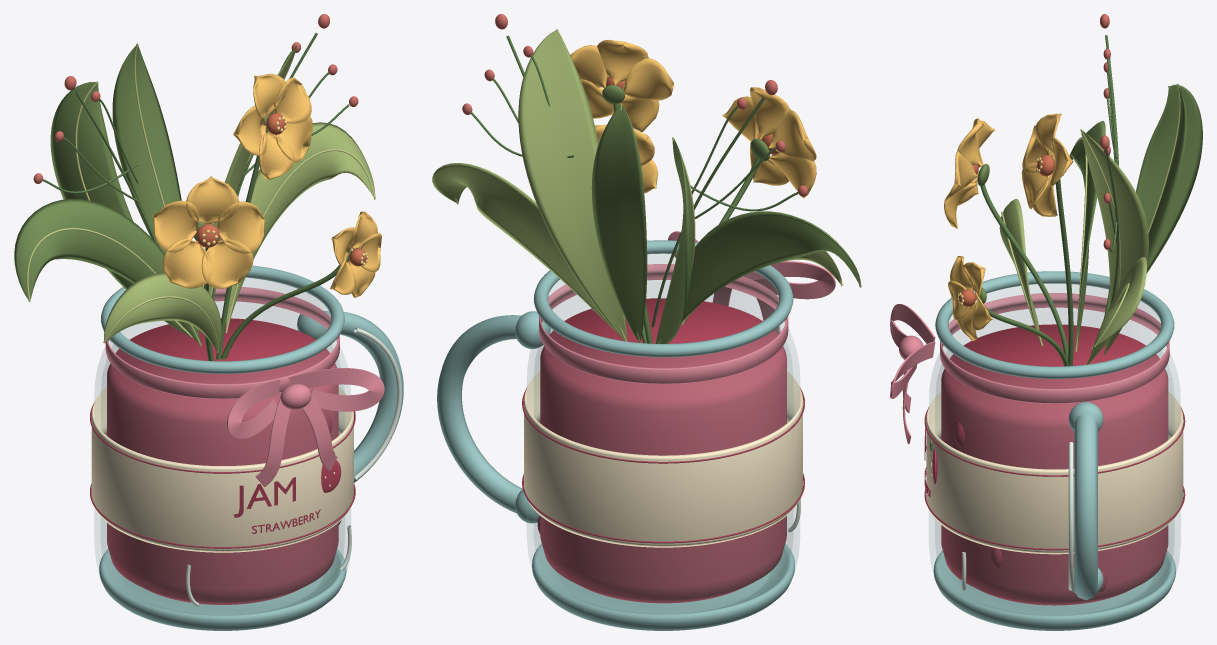
The picture shows the model from 3 angles, left to right: view 1: azimuth 30°, elevation 25°; view 2: azimuth 150°, elevation 25°; view 3: azimuth 270°, elevation 25°; orthographic projection. The views are drawn at different scales.
Parts seen in each view (by area): view 1: Furniture_mesh; view 2: Furniture_mesh; view 3: Furniture_mesh.
Part boxes in pixels (bbox=[...]): Furniture_mesh: bbox=[14, 14, 403, 630]; Furniture_mesh: bbox=[432, 14, 861, 630]; Furniture_mesh: bbox=[890, 14, 1202, 630].
Bounding box in the file's own units: 0.3534 × 0.452 × 0.2507.
